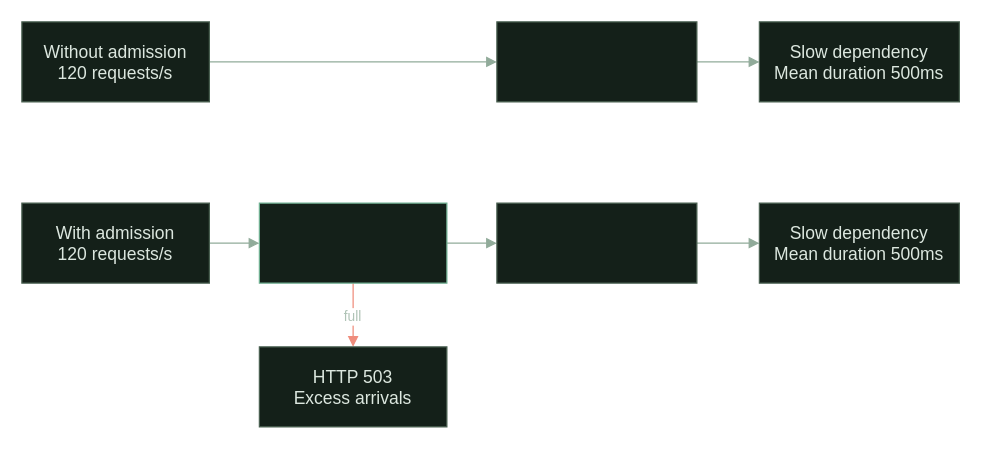
This 981x449 diagram has some shape labels left out. Here are the shapes that lost their labels. From the top down, the centre of each, then its label:
At point 596,61: "Active handlers Average ~60 in flight".
At point 352,242: "Concurrency guard L = 20".
At point 596,242: "Active handlers At most 20 admitted".
